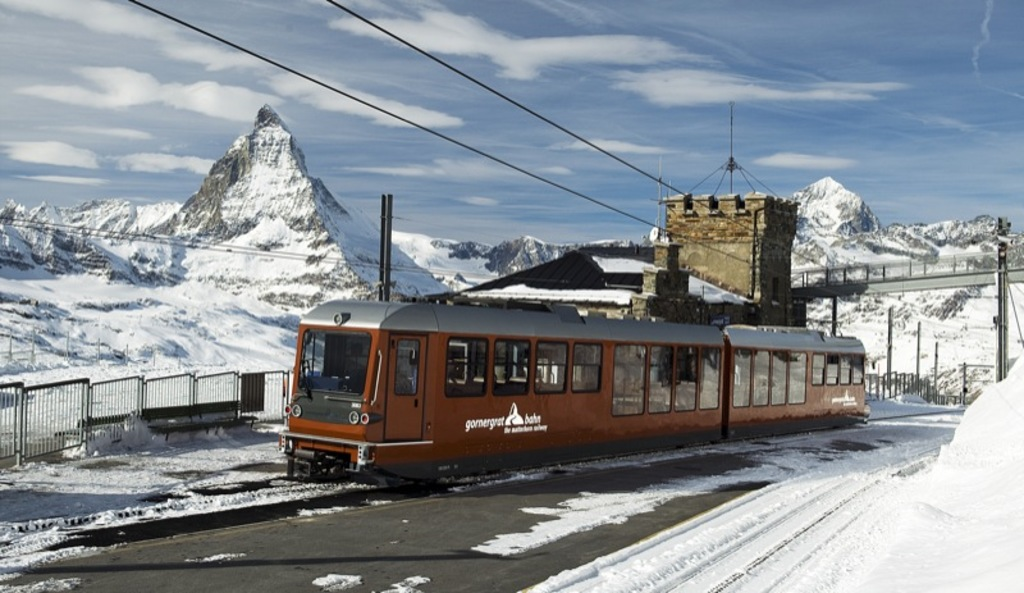train: (270, 298, 866, 481)
